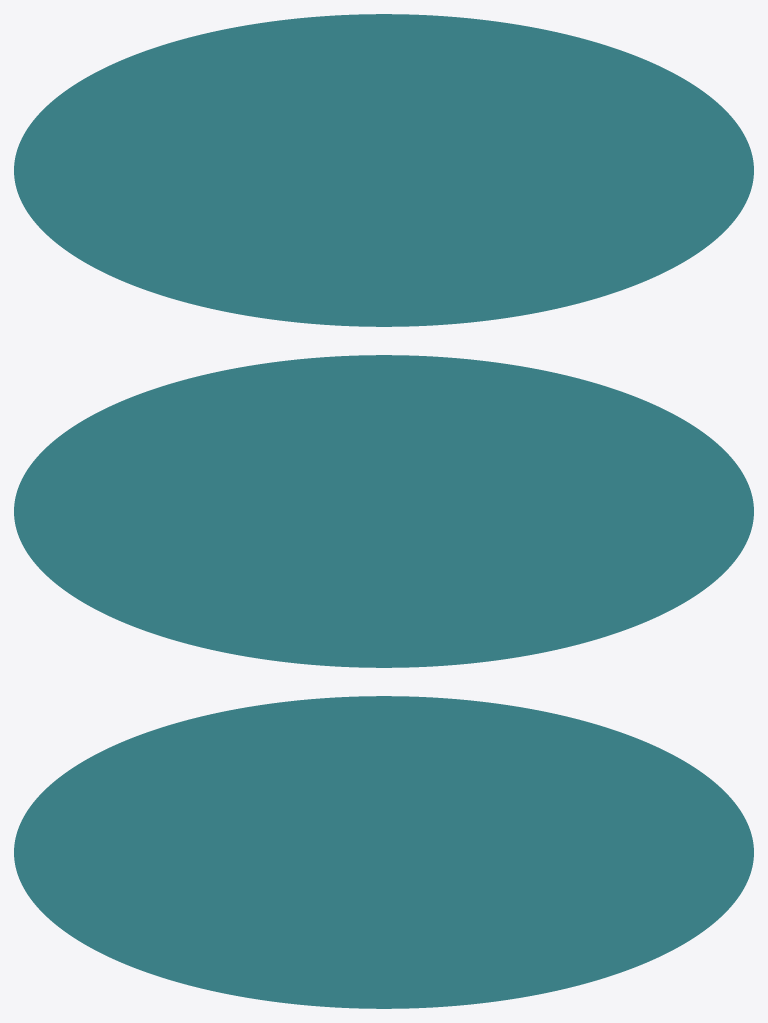
The model's file is device2.glb.
3 renders of one model, top to bottom at view 1: azimuth 30°, elevation 25°; view 2: azimuth 150°, elevation 25°; view 3: azimuth 270°, elevation 25°, orthographic.
Parts seen in each view (by area): view 1: 圆盘2, 圆盘1; view 2: 圆盘2, 圆盘1; view 3: 圆盘2, 圆盘1.
Part boxes in pixels (left/top/right/bottom): 圆盘2: left=14, top=14, right=753, bottom=326; 圆盘1: left=202, top=94, right=565, bottom=246; 圆盘2: left=14, top=355, right=753, bottom=667; 圆盘1: left=202, top=435, right=565, bottom=587; 圆盘2: left=14, top=696, right=753, bottom=1008; 圆盘1: left=202, top=776, right=565, bottom=928.
Bounding box in the file's own units: 23.95 × 0.6305 × 23.95.
